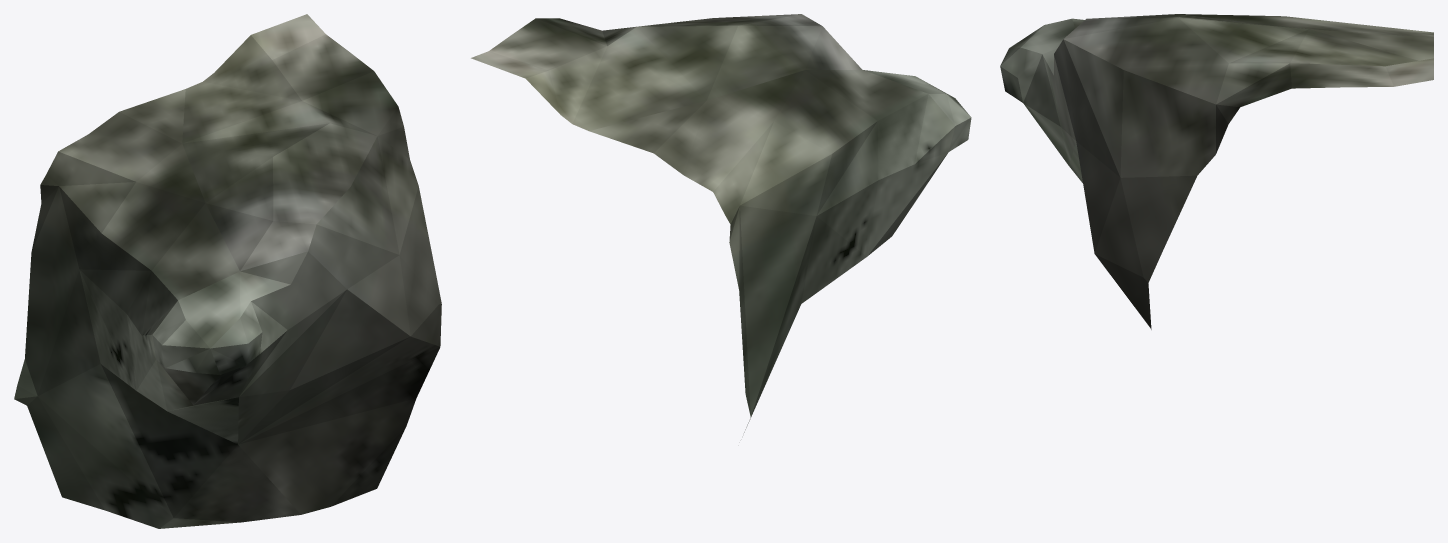
3 views of the same model, side by side, from view 1: azimuth 30°, elevation 25°; view 2: azimuth 150°, elevation 25°; view 3: azimuth 270°, elevation 25° (orthographic). The views are drawn at different scales.
Bounding box in the file's own units: 1.12 × 1.38 × 1.21.
1 material, 1 textured.
